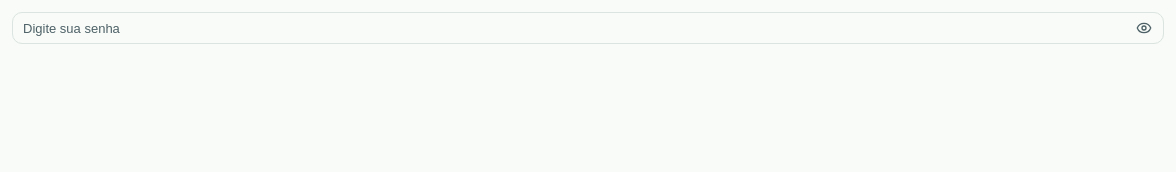
Test: PasswordInput Component › alterna visibilidade da senha e label de acessibilidade ao clicar no botão do olhinho
Clica para exibir
Click the button named "Ver senha" at {"x": 1144, "y": 28}, box [1124,12,1164,44]
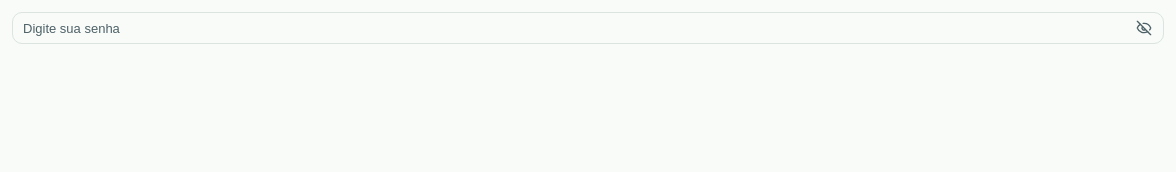
Result: the button named "Esconder senha" is shown
Clica para ocultar
Click the button named "Esconder senha" at {"x": 1144, "y": 28}, box [1124,12,1164,44]
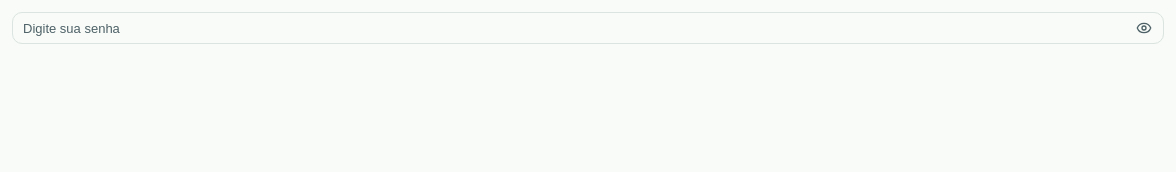
Result: the button named "Ver senha" is shown at [1124,12,1164,44]
